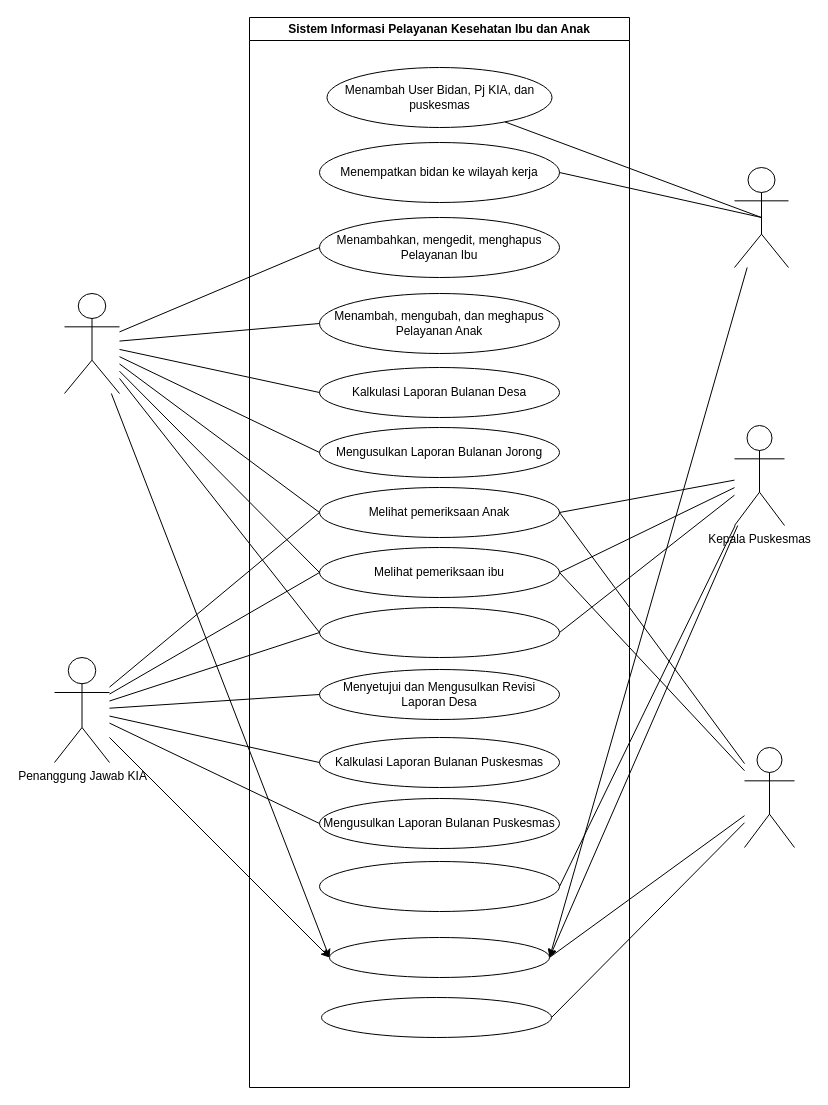
The diagram is 828 pixels wide and 1105 high, and some of its shapes have lost their labels. The centre of each missing label's shape, as x and y in pixels:
"Admin" belongs at pixel 761 217.
"Bidan Desa" belongs at pixel 92 343.
"Daftar Akun" belongs at pixel 436 1017.
"Ibu" belongs at pixel 769 797.
"Login" belongs at pixel 439 957.
"Melihat rekap laporan ante natal care, laporan bulanan, dan PWS" belongs at pixel 439 632.
"Menyetujui dan Mengusulkan Revisi Laporan Puskesmas" belongs at pixel 439 886.
